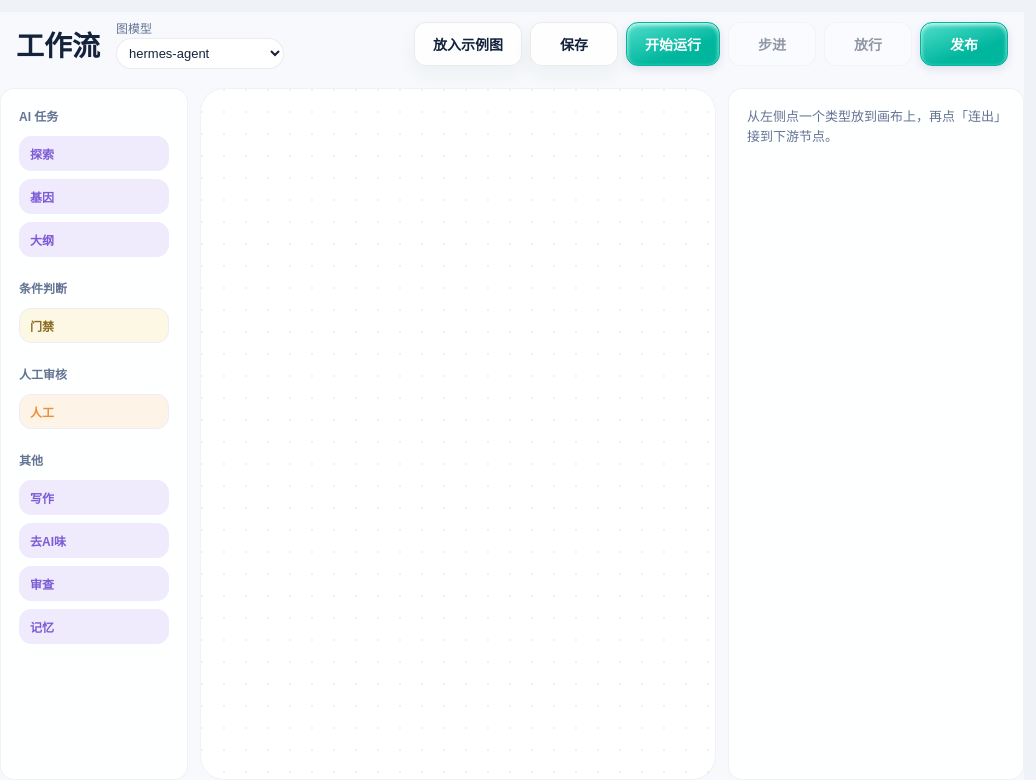
it: WorkflowCanvasPage › marks manual nodes as awaiting review
Step 1. Click the button "放入示例图" → (468, 44), box [414,22,522,66]
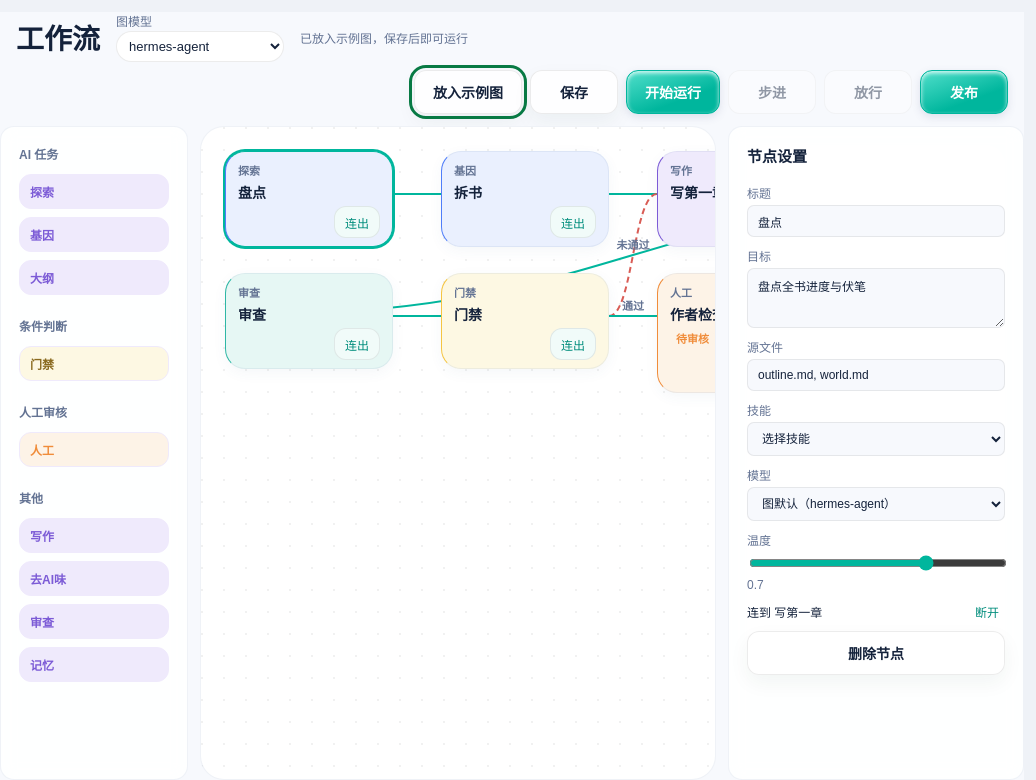
Expected: the text "待审核" is shown, [670,328,715,348]
